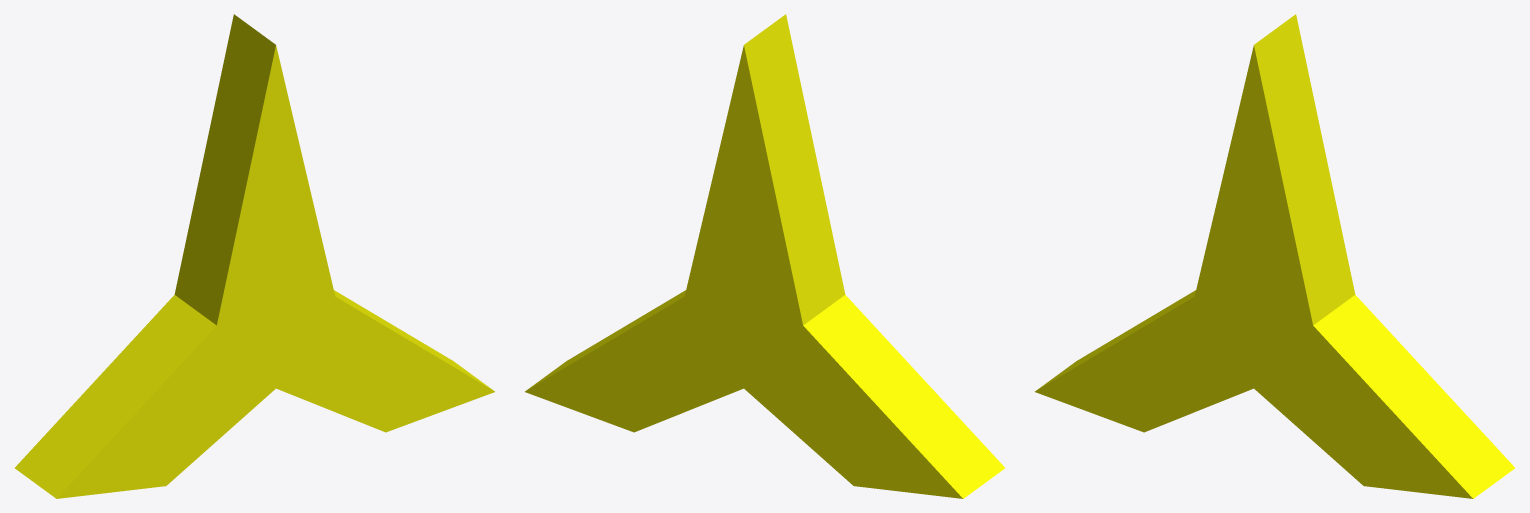
Rendered from _arrow_c_12.glb.
3 views of the same model, side by side, from view 1: azimuth 30°, elevation 25°; view 2: azimuth 150°, elevation 25°; view 3: azimuth 330°, elevation 25° (orthographic).
Visible parts, largest first — view 1: arrow_c_12; view 2: arrow_c_12; view 3: arrow_c_12.
Boxes of the visible parts, <box> form: arrow_c_12: <box>15,14,494,498</box>; arrow_c_12: <box>525,14,1004,498</box>; arrow_c_12: <box>1035,14,1514,498</box>.
Bounding box in the file's own units: 3603 × 3251 × 600.
